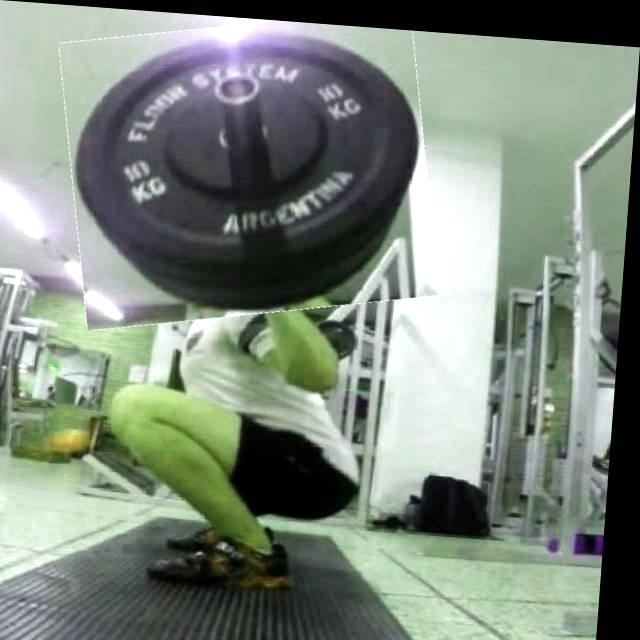barbell: (55, 5, 447, 334)
